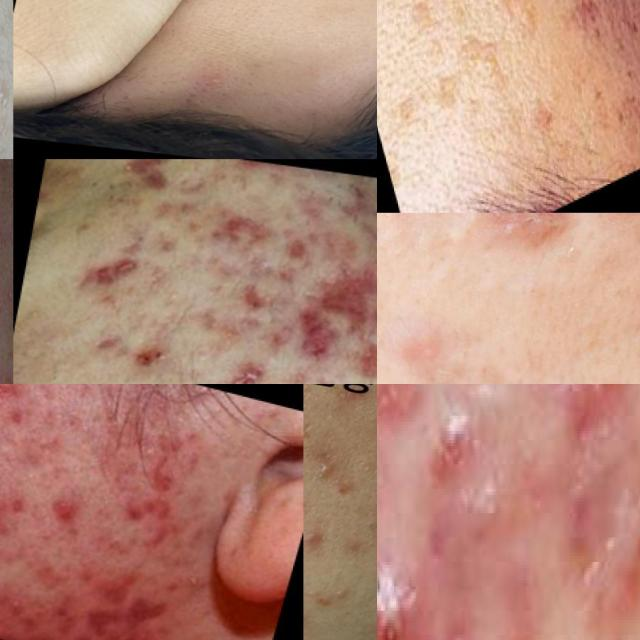acne_scars: (488, 213, 592, 279), (322, 246, 377, 332), (204, 204, 278, 262), (222, 269, 290, 331), (284, 304, 338, 368), (74, 246, 132, 299), (134, 450, 187, 501), (83, 324, 135, 371), (224, 347, 269, 384), (349, 326, 377, 384), (128, 159, 178, 191)
comedone: (429, 213, 481, 267), (66, 166, 115, 215), (303, 448, 345, 495), (94, 518, 134, 564), (189, 64, 240, 97), (288, 374, 337, 384)
flat_wart: (450, 17, 506, 74), (424, 65, 471, 116), (404, 0, 439, 39)
folliculitis: (172, 568, 207, 604)
milium: (0, 54, 13, 123)
papule: (410, 391, 491, 495), (377, 558, 441, 640), (102, 617, 154, 640)
sebo-crystan-conglo: (560, 384, 640, 430)
